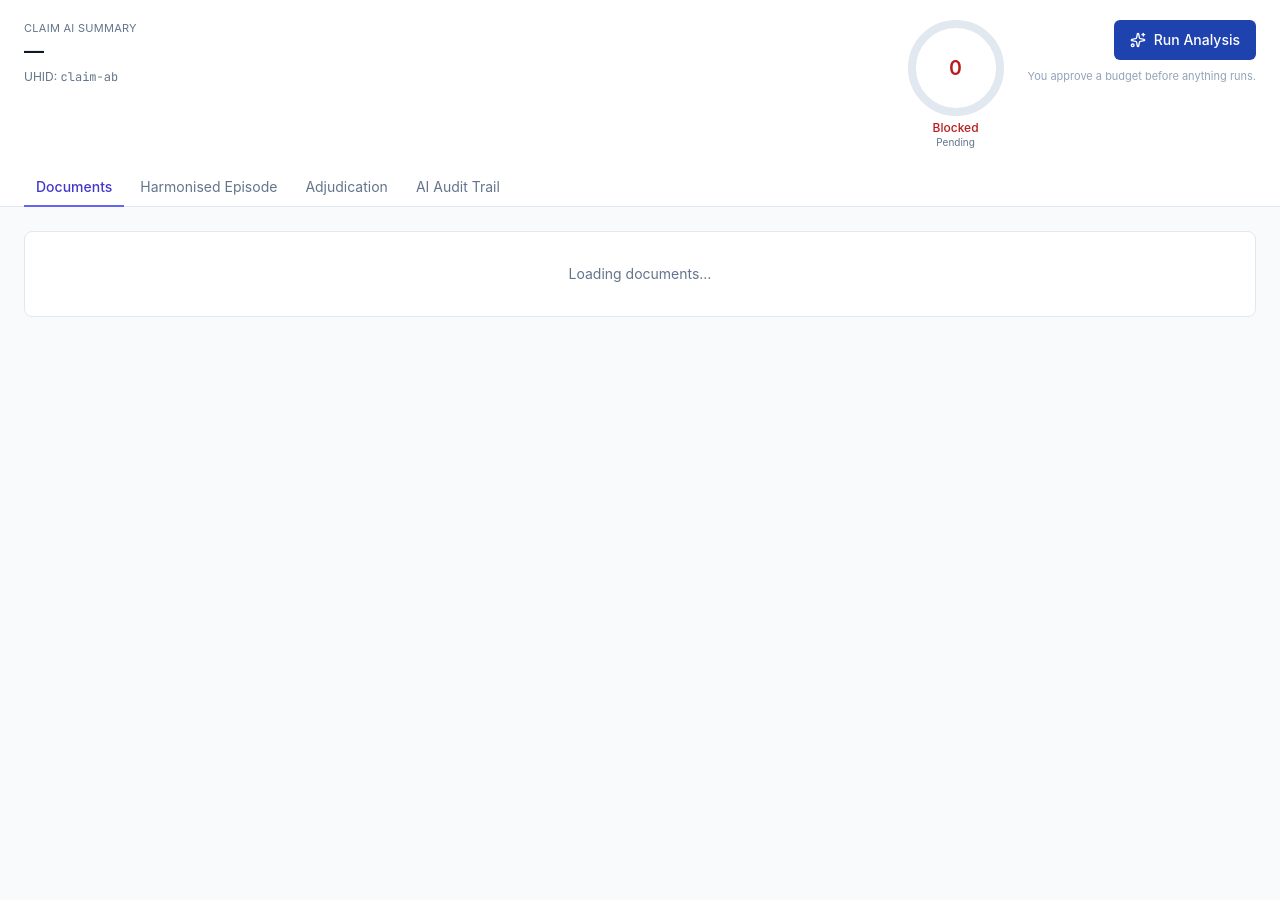
cost consent — the 428 gate › asks for approval before anything starts, and starts only after it
Expected: the text "You approve a budget before anything runs." is shown, [1028,68,1256,84]
Step 1. Click the button "Run Analysis" → click(1185, 40), box [1114,20,1256,60]
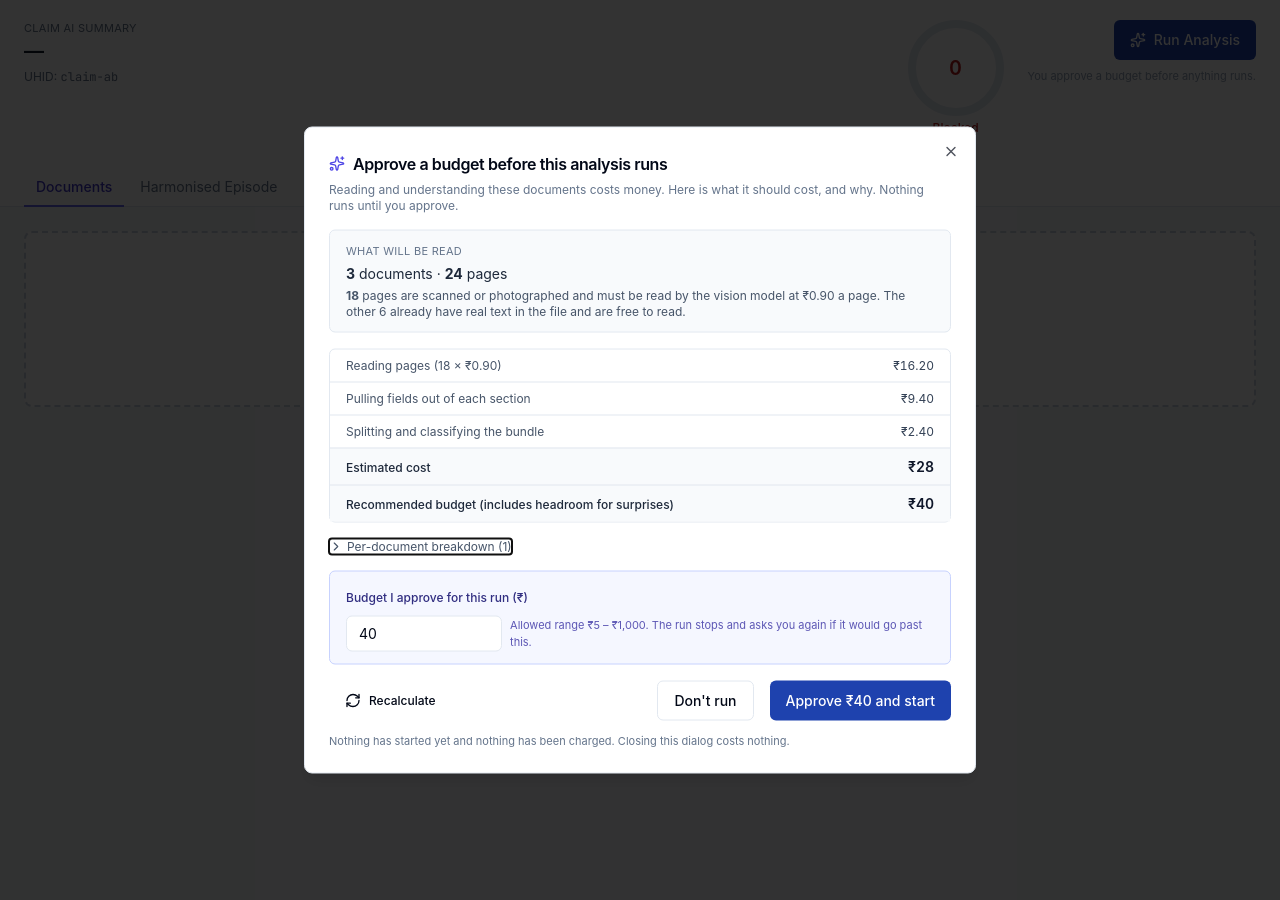
Now the heading "Approve a budget before this analysis runs" is shown, box [329,154,667,174]
Now the text "scanned or photographed and must be read" is shown, box [422,287,799,302]
Now the text "18" is shown, box [346,287,359,302]
Step 2. Click the button "Approve ₹40 and start" → click(860, 700), box [770,680,951,720]
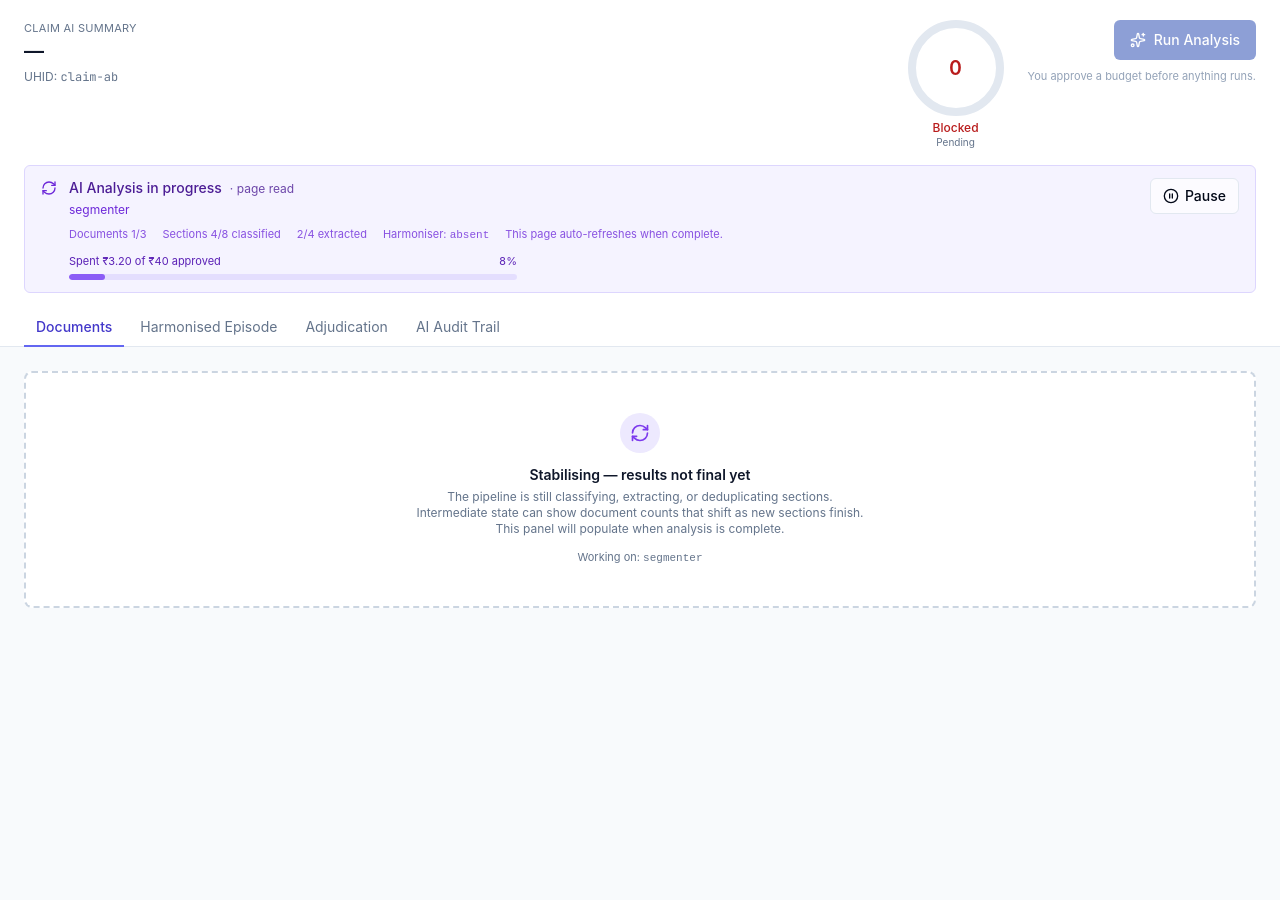
Now the text "AI Analysis in progress· page read" is shown, box [69,178,294,196]
Now the text "Spent ₹3.20 of ₹40 approved" is shown, box [69,253,221,270]
Now the button "Pause" is enabled, box [1150,178,1239,214]
